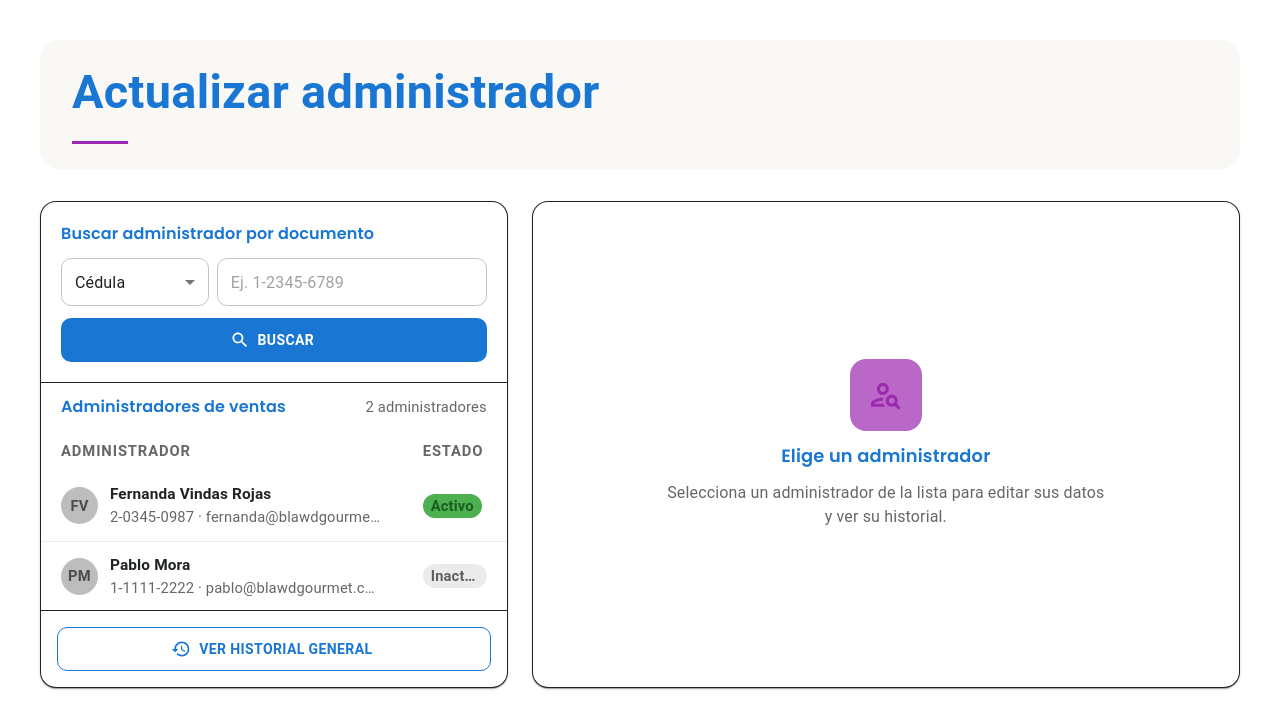
Test case: EditAdmin (HU-007 · Tasks 93, 94 y 95) › Task 93 · búsqueda y formulario prellenado › al pulsar su fila consulta su perfil y muestra el formulario con nombre, correo, contraseña vacía y estado
Click the text "Fernanda Vindas Rojas" at (191, 494), box [110,485,271,503]
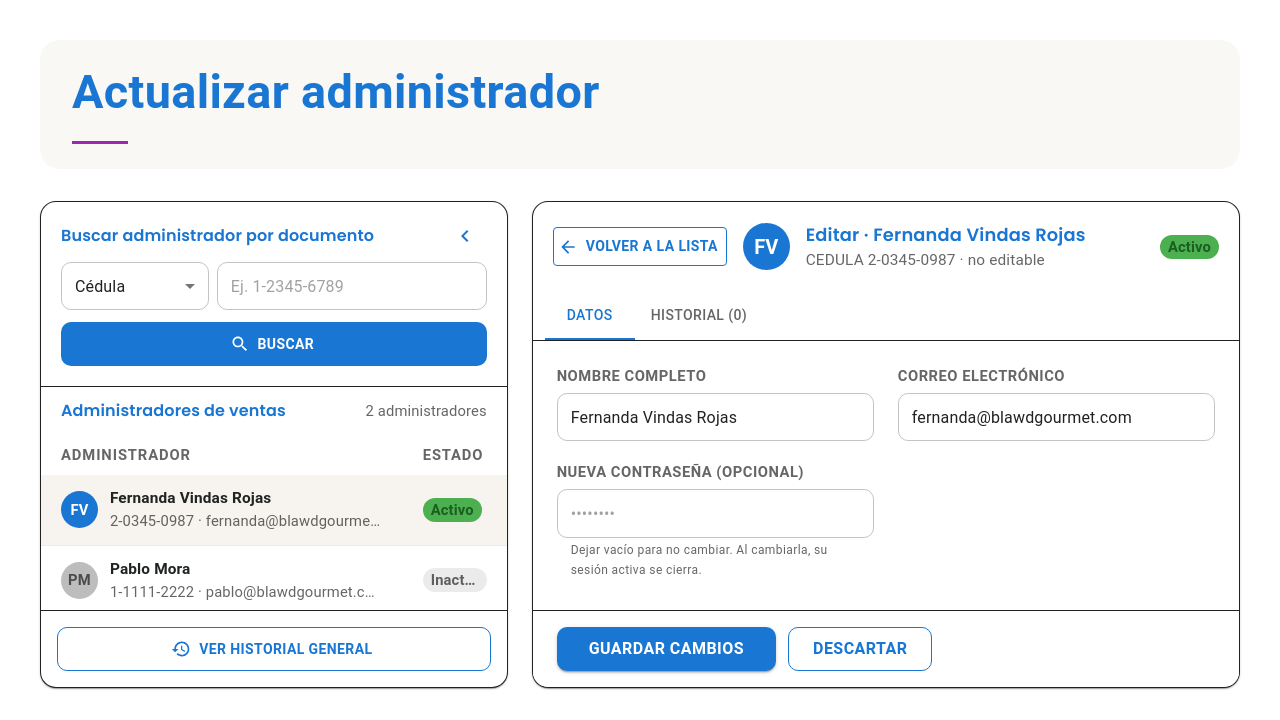
Check: the text "Editar · Fernanda Vindas Rojas" is shown, box [806,222,1086,247]
Check: the text "CEDULA 2-0345-0987 · no editable" is shown, box [806,250,1045,268]
Check: the field labelled "Nombre completo" holds "Fernanda Vindas Rojas", box [557,393,874,441]
